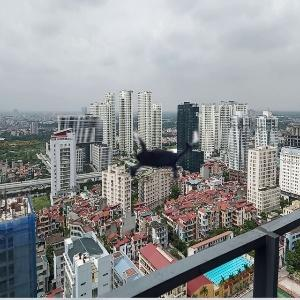drone: (107, 104, 210, 207)
